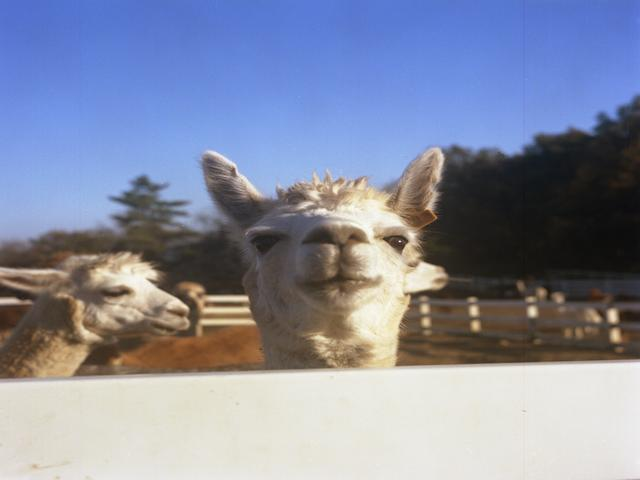camel: (173, 145, 481, 368), (5, 218, 214, 363)
